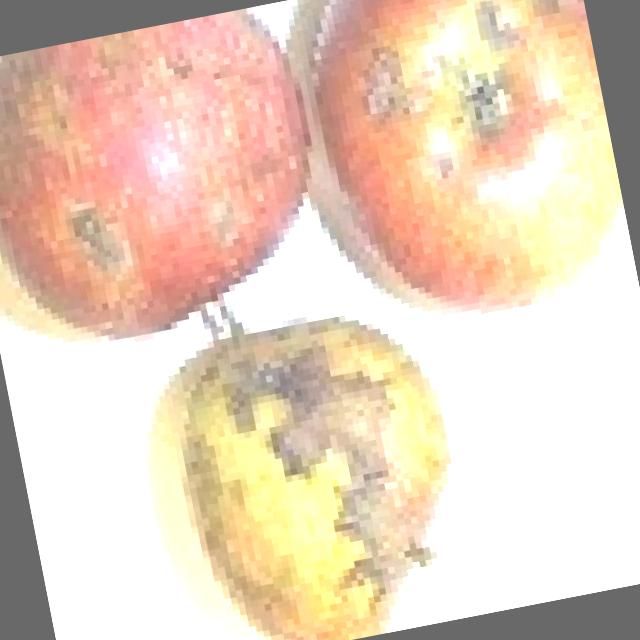Apple: (0, 6, 349, 366), (125, 300, 482, 640), (297, 0, 633, 347)
